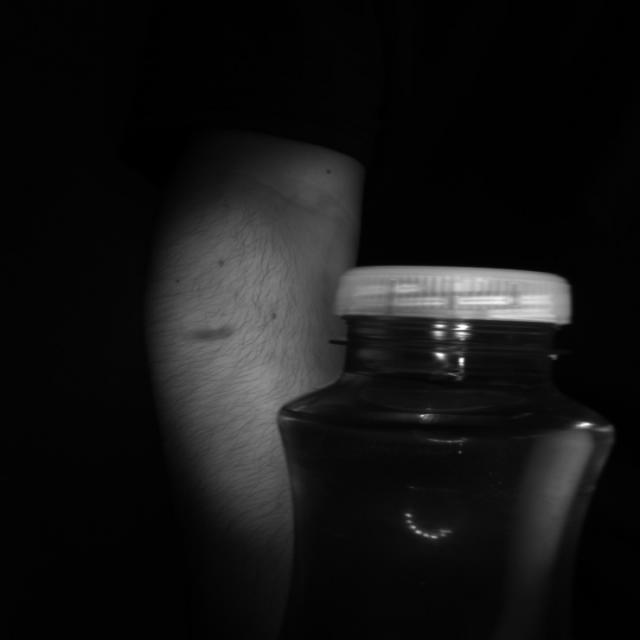Not Good: (327, 264, 572, 352)
